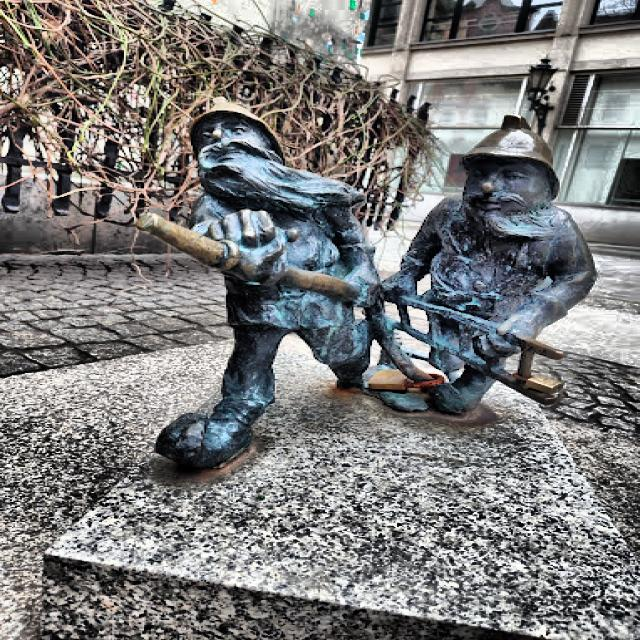Pozarki: (136, 96, 597, 468)
